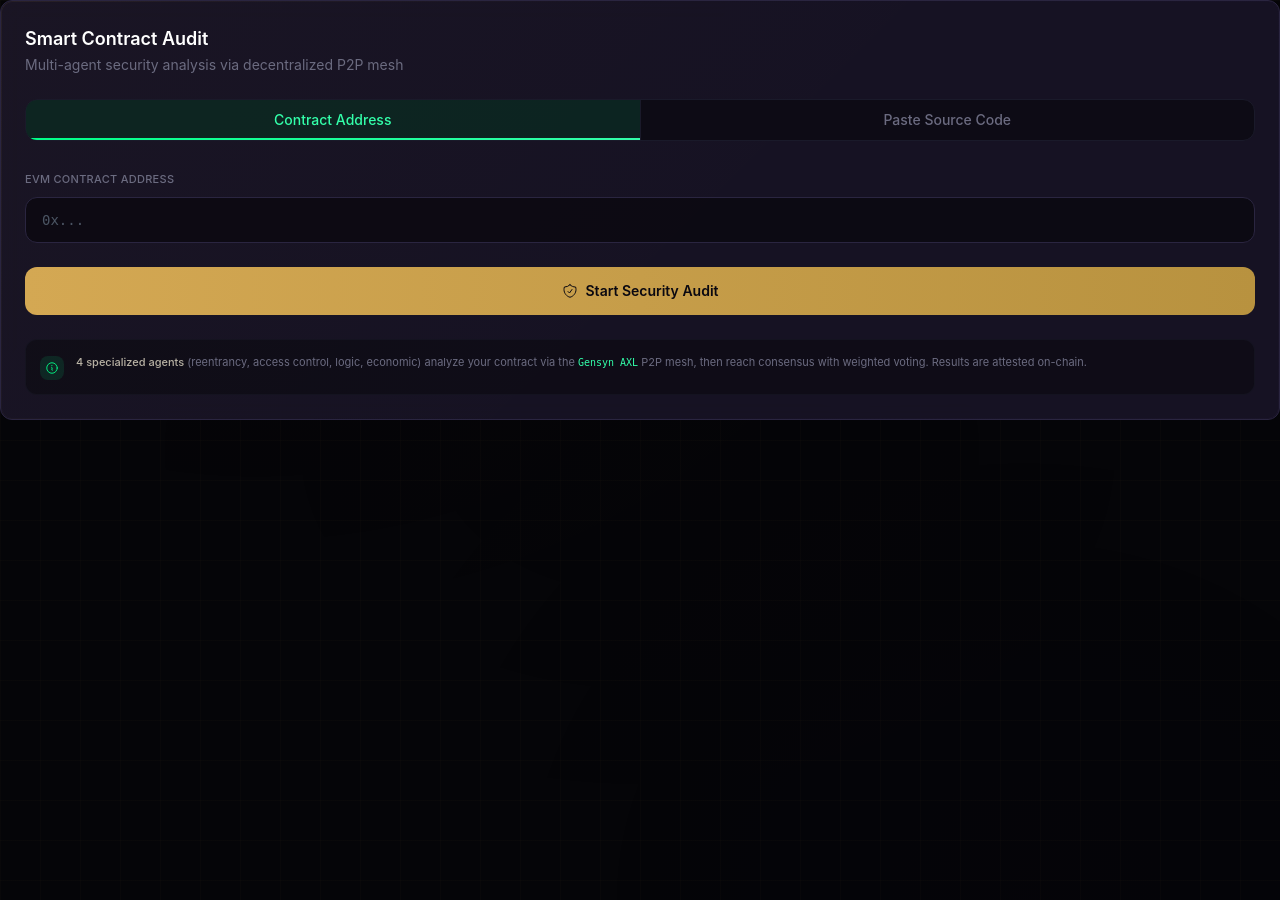
Test: AuditConsole › switches to source code mode
The width and height of the screenshot is (1280, 900).
Click the button "Paste Source Code".
click(947, 120)  # box [640,100,1254,140]
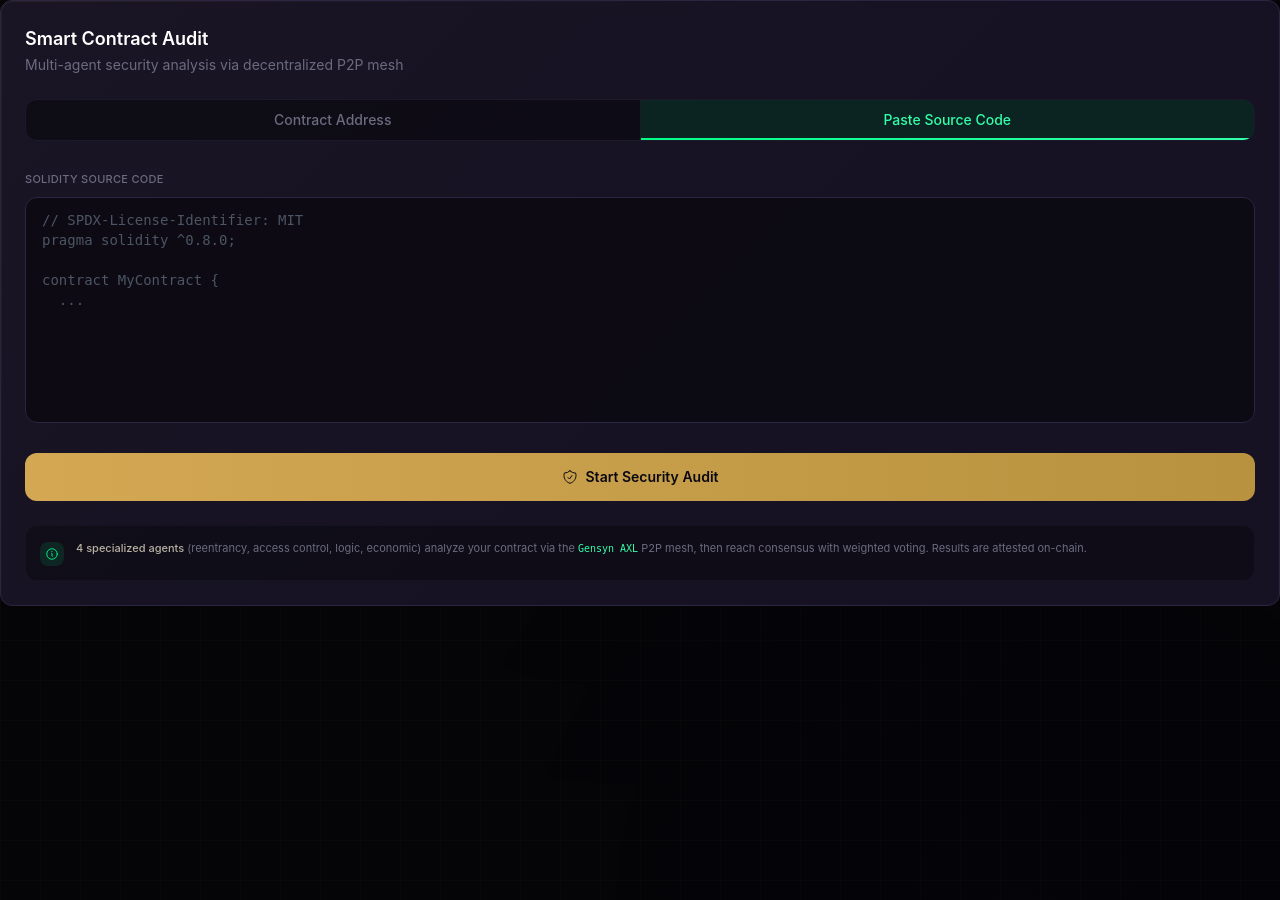
Expected: the text box with placeholder "SPDX-License" is shown, [25,197,1255,423]
